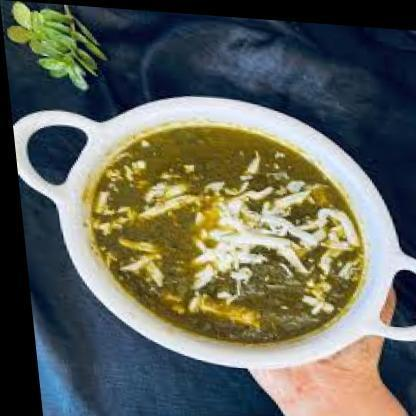palak_paneer: (79, 116, 369, 348)
